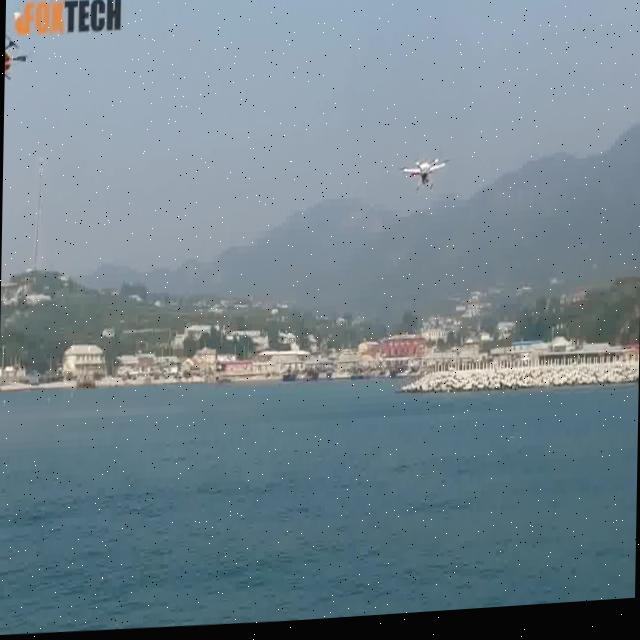drone: (397, 144, 455, 209)
